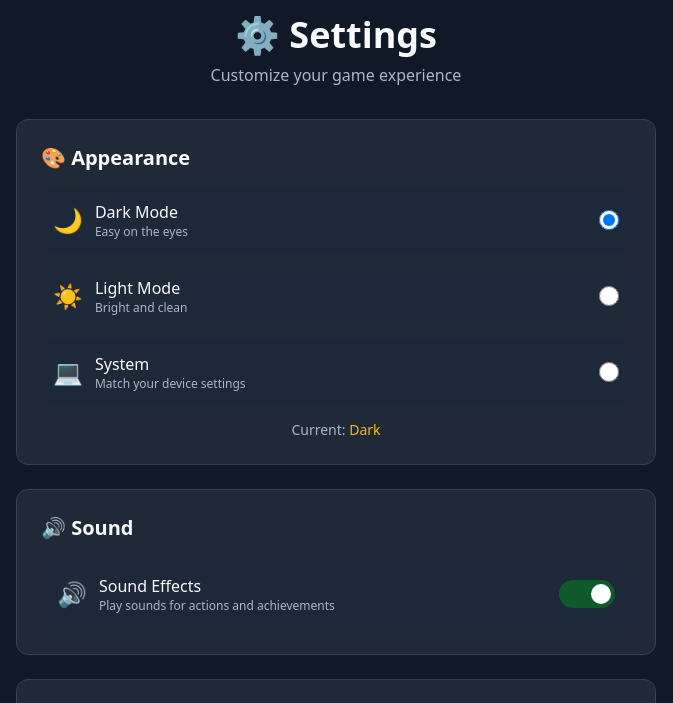
SettingsPage › plays the confirmation sound while sound effects are enabled
Step 1. Click the switch named "Sound effects" → (587, 594), box [559,580,615,608]
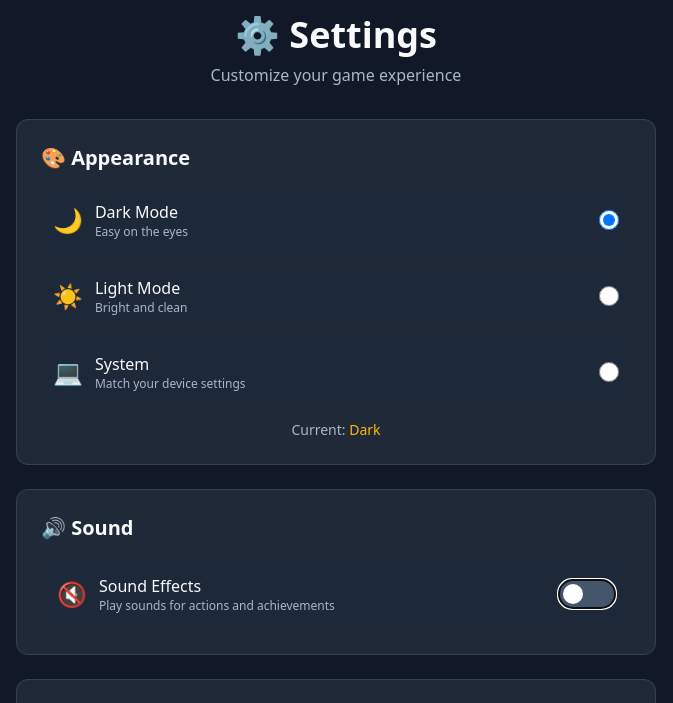
Expected: the text "🔇" is shown, [57,578,87,610]
